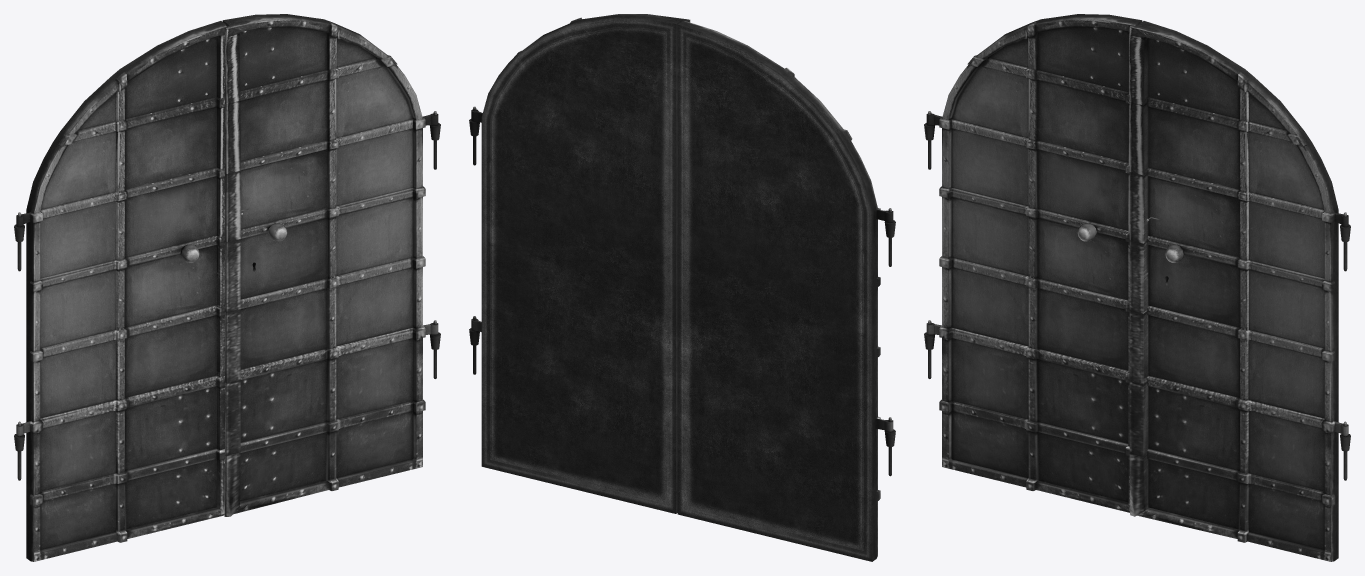
File: Basement_Door.glb
3 views of the same model, side by side, from view 1: azimuth 30°, elevation 25°; view 2: azimuth 150°, elevation 25°; view 3: azimuth 330°, elevation 25° (orthographic).
Visible parts, largest first — view 1: Big_Door_L, Big_Door_R; view 2: Big_Door_L, Big_Door_R; view 3: Big_Door_R, Big_Door_L.
Part boxes in pixels (bbox=[...]): Big_Door_L: bbox=[14, 21, 226, 561]; Big_Door_R: bbox=[222, 14, 440, 516]; Big_Door_L: bbox=[677, 21, 895, 561]; Big_Door_R: bbox=[469, 14, 690, 513]; Big_Door_R: bbox=[1129, 21, 1350, 561]; Big_Door_L: bbox=[924, 14, 1142, 512].
Bounding box in the file's own units: 9.9 × 10.93 × 0.6884.
1 material, 1 textured.
